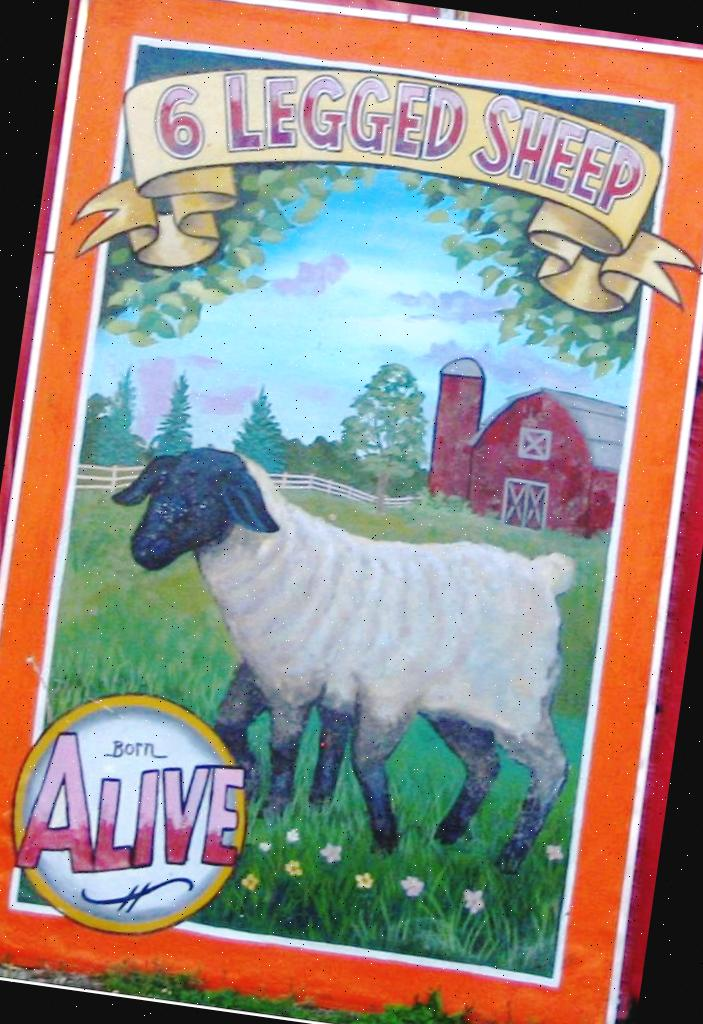Sheep: (69, 425, 607, 888)
